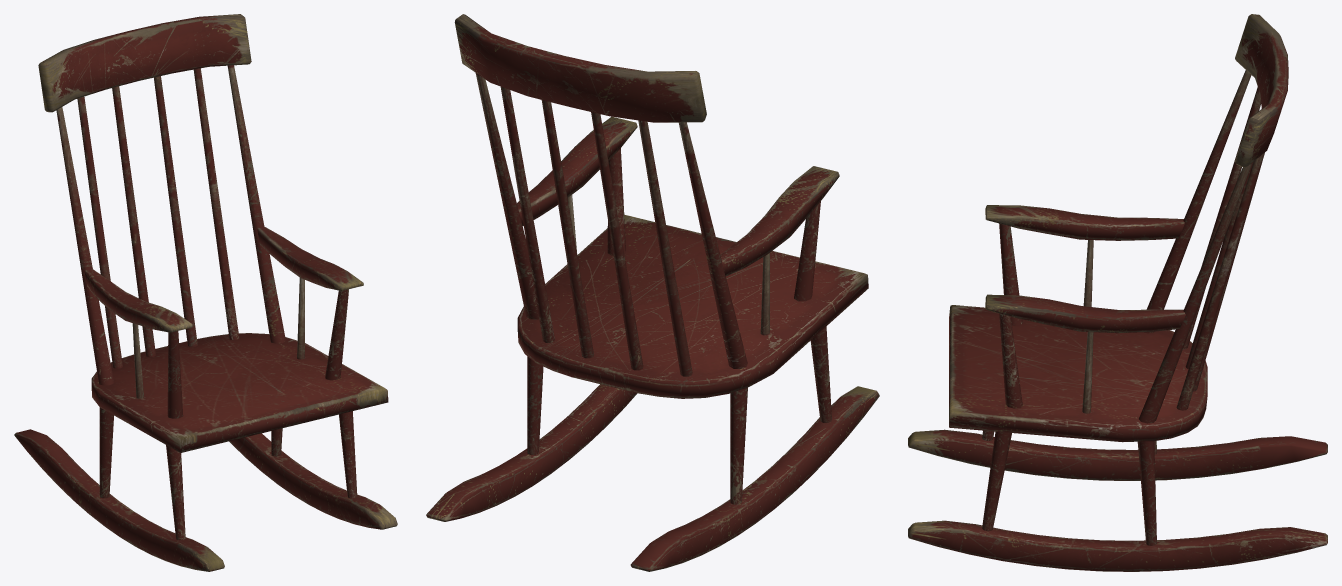
The model's file is obj_rocking_chair_8ead06.glb.
The picture shows the model from 3 angles, left to right: view 1: azimuth 30°, elevation 25°; view 2: azimuth 150°, elevation 25°; view 3: azimuth 270°, elevation 25°; orthographic projection. The views are drawn at different scales.
Parts seen in each view (by area): view 1: obj_rocking_chair_8ead06; view 2: obj_rocking_chair_8ead06; view 3: obj_rocking_chair_8ead06.
Boxes of the visible parts, x1,y1,x2,y2 form: obj_rocking_chair_8ead06: (14,14,397,571); obj_rocking_chair_8ead06: (426,14,879,571); obj_rocking_chair_8ead06: (908,14,1327,571).
Bounding box in the file's own units: 0.5124 × 1 × 0.8324.
Materials: 1 (1 with a texture image).
